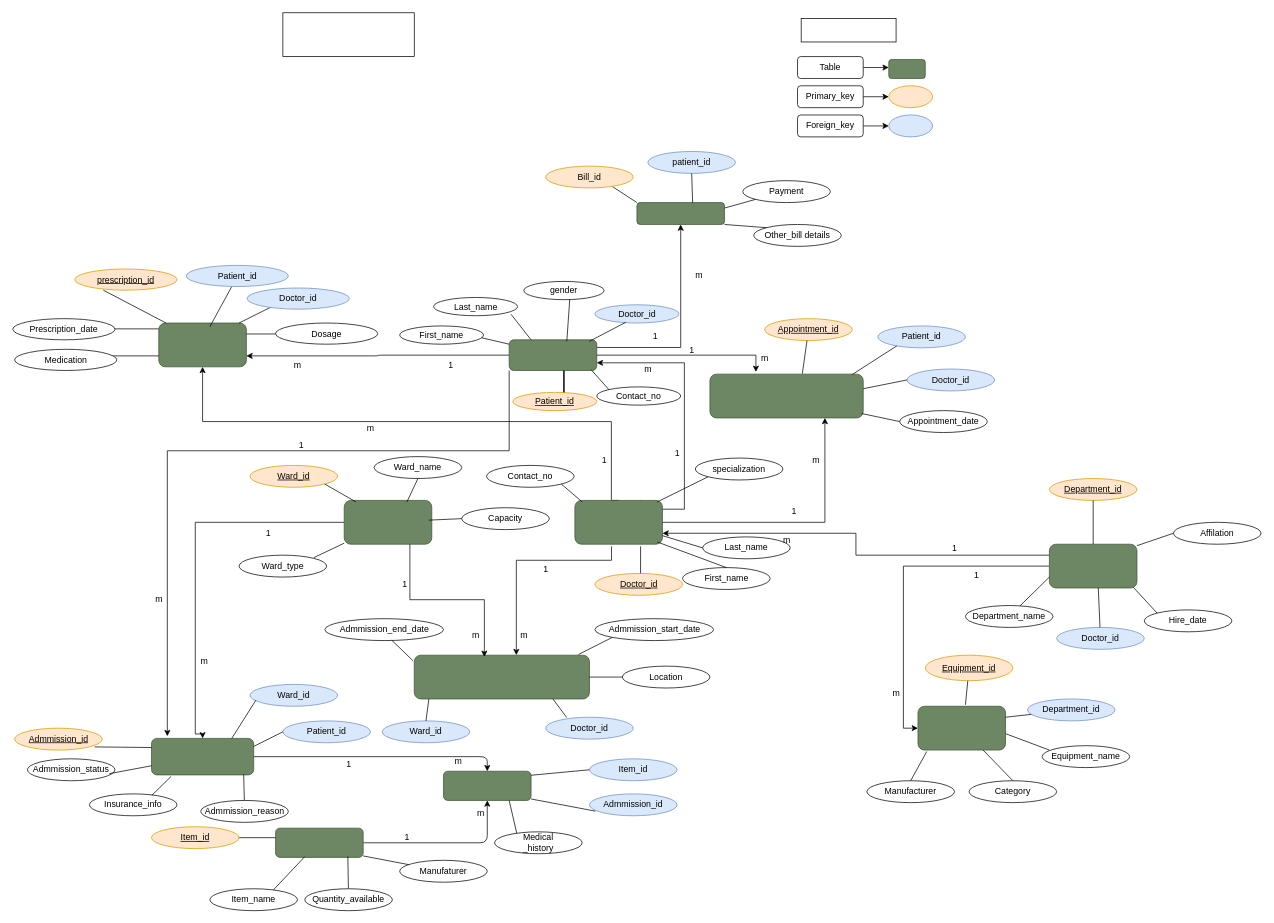
The diagram is 1274 pixels wide and 923 high, and some of its shapes have lost their labels. Each missing label, with the centre of its shape:
Admission: (x=202, y=756)
Appointment: (x=786, y=395)
billing: (x=680, y=213)
Departments: (x=1093, y=565)
Doctors: (x=618, y=522)
Hospital_management_system: (x=348, y=34)
Indicators: (x=848, y=30)
Inventory: (x=319, y=842)
Medical_equipments: (x=961, y=728)
Patient_admmission: (x=501, y=676)
Patient_inventory: (x=487, y=785)
Patients: (x=552, y=354)
Prescription: (x=202, y=344)
Wards: (x=387, y=522)
